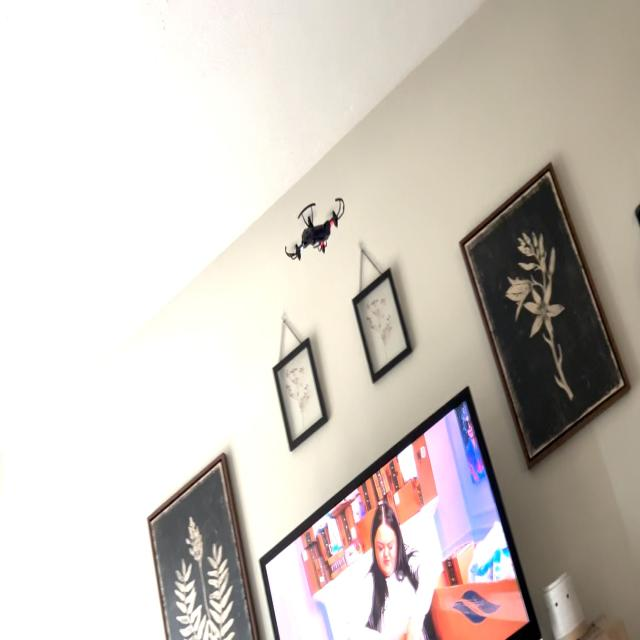drone: (277, 184, 353, 271)
